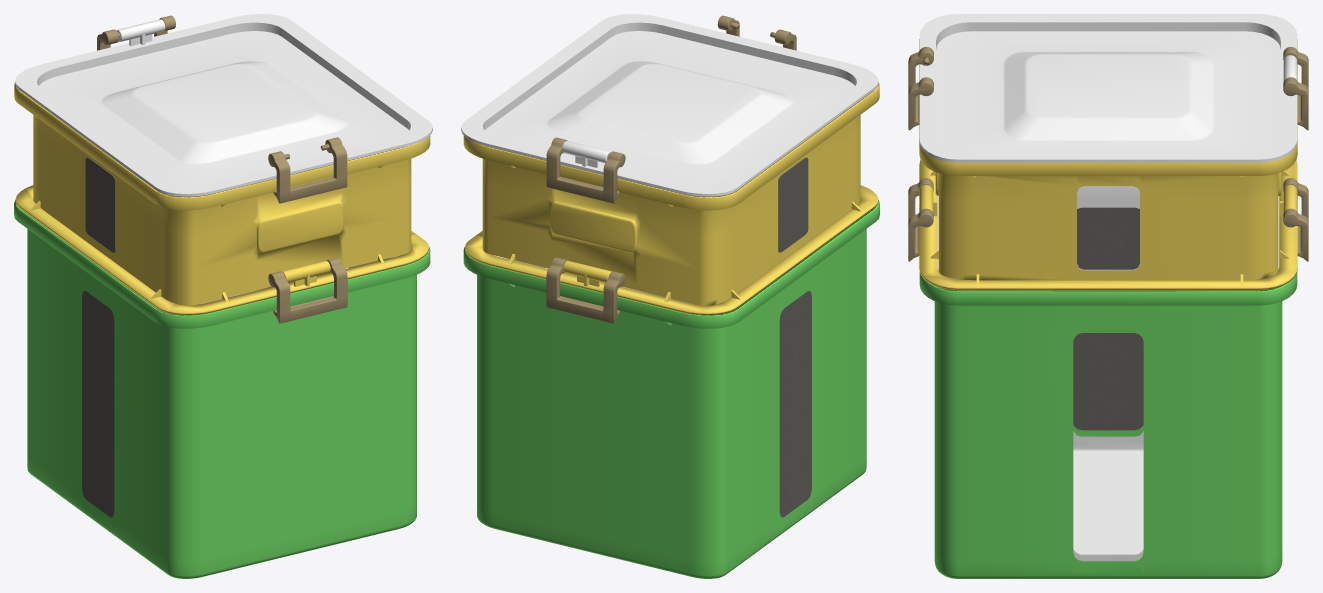
Rendered from 360-container.glb.
The picture shows the model from 3 angles, left to right: view 1: azimuth 30°, elevation 25°; view 2: azimuth 150°, elevation 25°; view 3: azimuth 270°, elevation 25°; orthographic projection. The views are drawn at different scales.
Visible parts, largest first — view 1: c Cube.074, c Plane.041, c Cube.063, c Plane.049, c Plane.045, c Plane.043, c Plane.044, c Circle.001, c Plane.052, c Circle.010, c Cylinder.011, c Cube.064; view 2: c Cube.074, c Plane.041, c Cube.063, c Plane.049, c Plane.045, c Plane.043, c Plane.044, c Circle.001, c Plane.052, c Circle.010, c Cylinder.011, c Cube.064; view 3: c Cube.074, c Plane.041, c Cube.063, c Plane.049, c Plane.048, c Plane.044, c Plane.045, c Plane.043, c Cube.073, c Circle.001, c Circle.010, c Cube.064.
Part boxes in pixels (x1,y1,x2,y2): c Cube.074: [27, 229, 416, 578]; c Plane.041: [15, 14, 432, 196]; c Cube.063: [33, 115, 411, 305]; c Plane.049: [82, 291, 114, 517]; c Plane.045: [14, 200, 430, 328]; c Plane.043: [14, 82, 430, 210]; c Plane.044: [15, 185, 428, 315]; c Circle.001: [97, 15, 347, 203]; c Plane.052: [85, 157, 115, 252]; c Circle.010: [268, 257, 347, 323]; c Cylinder.011: [116, 19, 165, 45]; c Cube.064: [282, 260, 330, 288]; c Cube.074: [477, 229, 866, 578]; c Plane.041: [461, 14, 878, 196]; c Cube.063: [482, 115, 860, 305]; c Plane.049: [779, 291, 811, 517]; c Plane.045: [463, 200, 879, 328]; c Plane.043: [463, 82, 879, 210]; c Plane.044: [465, 185, 878, 315]; c Circle.001: [546, 15, 796, 203]; c Plane.052: [778, 157, 808, 252]; c Circle.010: [546, 257, 625, 323]; c Cylinder.011: [562, 141, 610, 167]; c Cube.064: [563, 260, 611, 288]; c Cube.074: [934, 301, 1282, 578]; c Plane.041: [919, 14, 1297, 162]; c Cube.063: [935, 172, 1281, 280]; c Plane.049: [1073, 207, 1143, 430]; c Plane.048: [1073, 452, 1143, 554]; c Plane.044: [919, 160, 1297, 290]; c Plane.045: [919, 271, 1297, 305]; c Plane.043: [919, 39, 1297, 175]; c Cube.073: [937, 186, 1279, 561]; c Circle.001: [908, 46, 1308, 130]; c Circle.010: [908, 178, 1308, 261]; c Cube.064: [919, 185, 1297, 216].
Bounding box in the file's own units: 5.67 × 8.21 × 6.57.
Materials: 6 (1 with a texture image).
